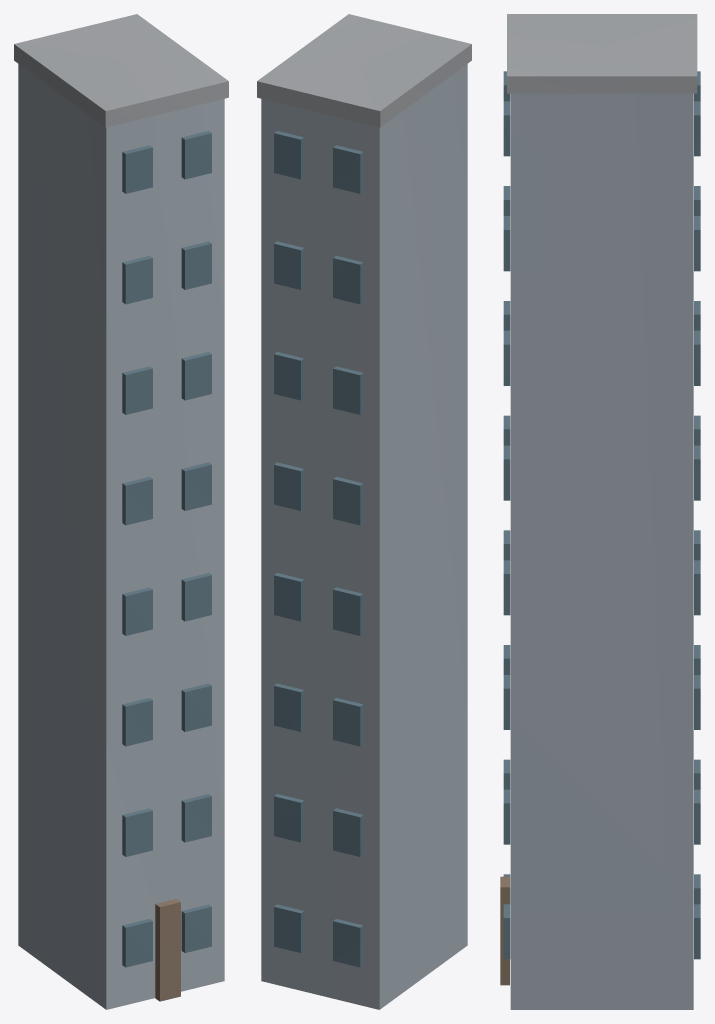
Rendered from lighthouse-05.glb.
3 views of the same model, side by side, from view 1: azimuth 30°, elevation 25°; view 2: azimuth 150°, elevation 25°; view 3: azimuth 270°, elevation 25° (orthographic). The views are drawn at different scales.
Visible parts, largest first — view 1: world; view 2: world; view 3: world.
Boxes of the visible parts, x1=… form: world: x1=14, y1=14, x2=228, y2=1009; world: x1=257, y1=14, x2=471, y2=1009; world: x1=500, y1=14, x2=700, y2=1009.
Size of the model in its own units: 0.5458 by 3.81 by 0.7405.
